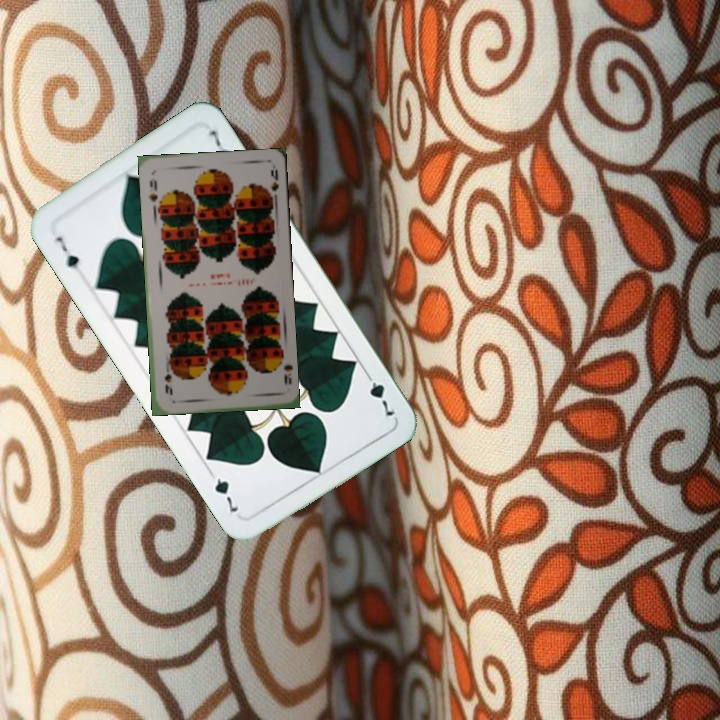G7: (360, 366, 398, 419), (51, 232, 82, 272)
S9: (273, 352, 294, 387), (145, 174, 160, 205)
